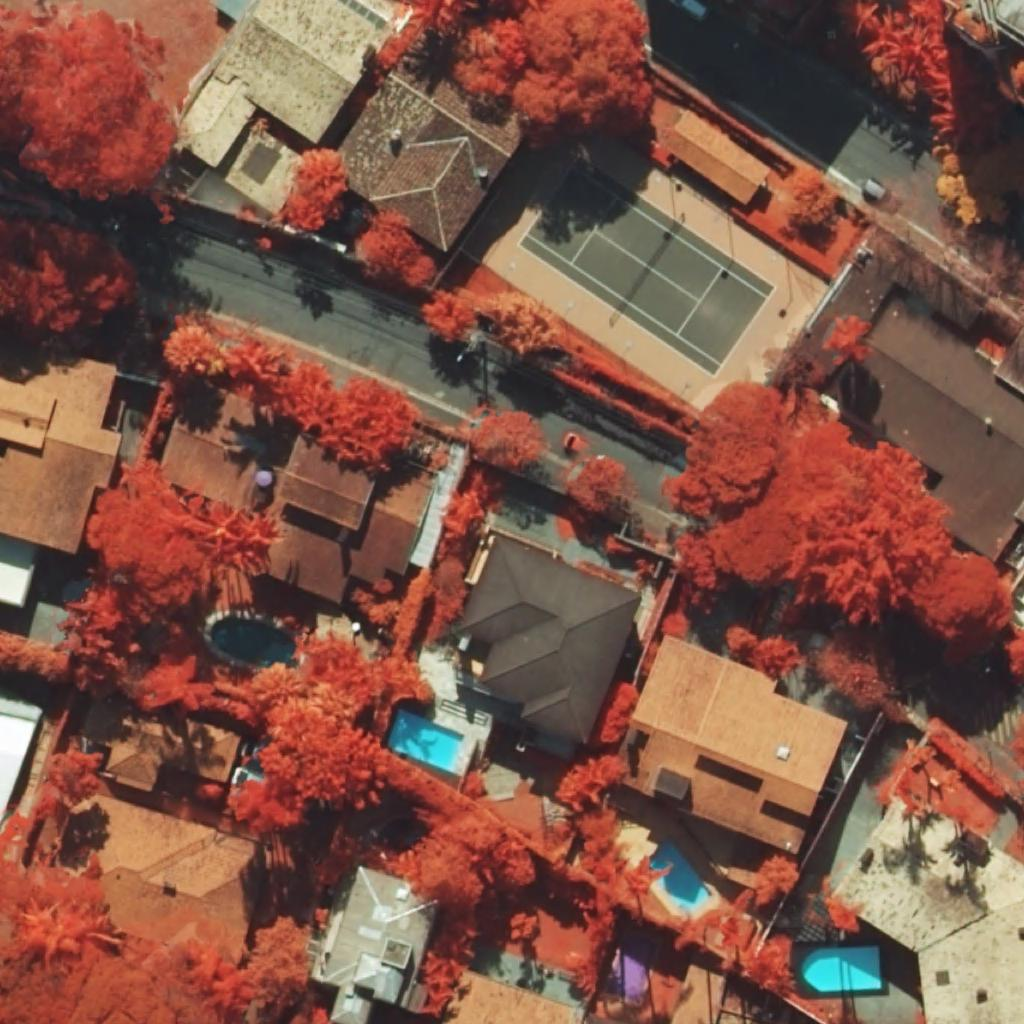pool: (387, 708, 465, 771), (212, 617, 298, 669), (649, 842, 711, 909), (801, 946, 881, 992), (606, 932, 657, 1004)
